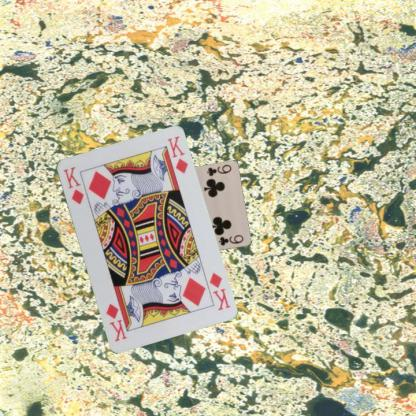9c: (204, 162, 232, 178)
Kd: (206, 270, 232, 311), (60, 164, 85, 205)
